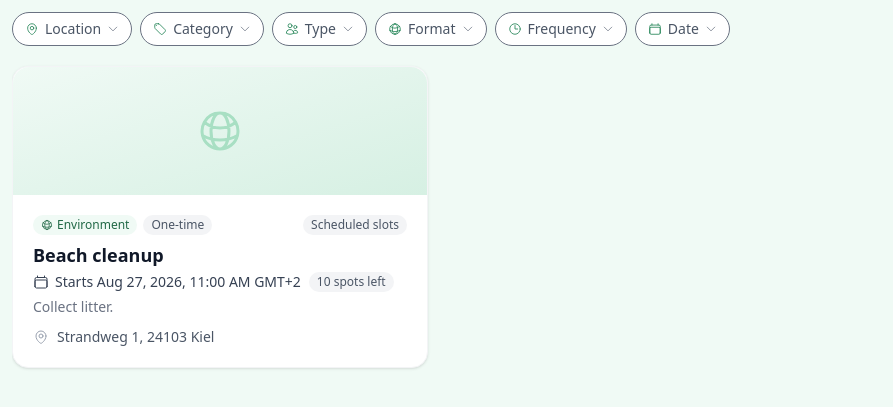
it: opportunity list "near me" › keeps its own position out of the shareable query string
The width and height of the screenshot is (893, 407).
Click the button with test id "filter-location".
click(72, 29)  # box [13,13,131,45]
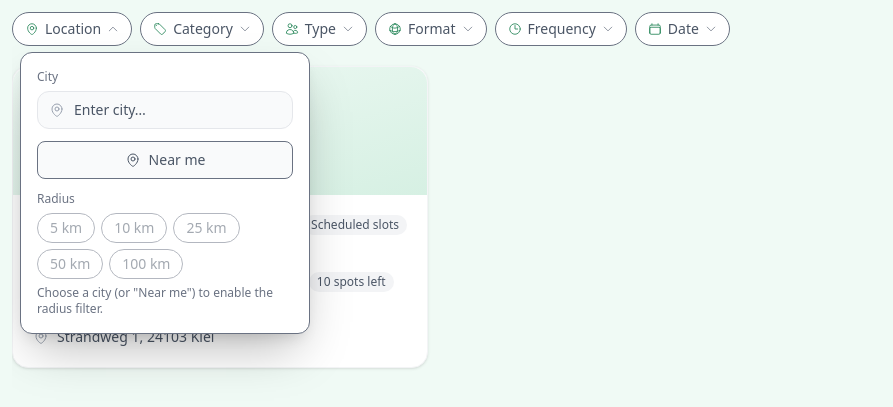
Click the button "Near me".
click(165, 160)  # box [37,141,293,179]
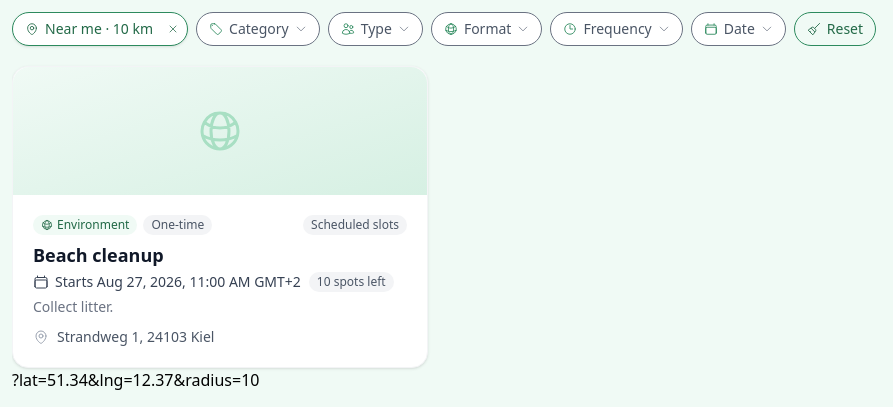
Expected: the button with test id "filter-location" reads "Near me · 10 km", [13,13,159,45]
